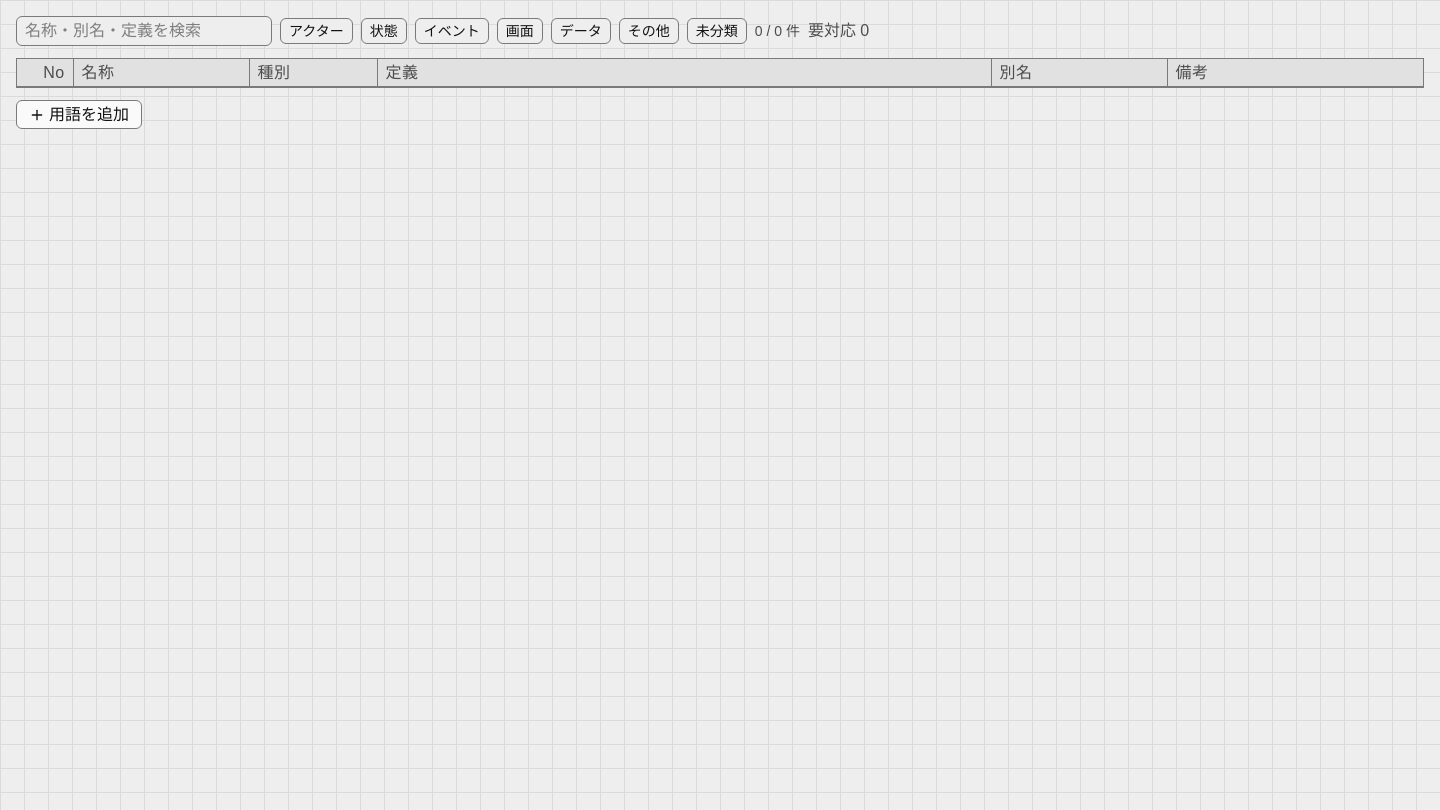
Scenario: GlossaryEditor: 行の操作言語 › 導出表示中は空の状態の「用語を追加」ボタンを出さない（行追加を止めるのと揃える）
Expected: the button "用語を追加" is shown, 16,100 -> 142,129
Click the button "その他" at (649, 31), box 619,18 -> 679,44
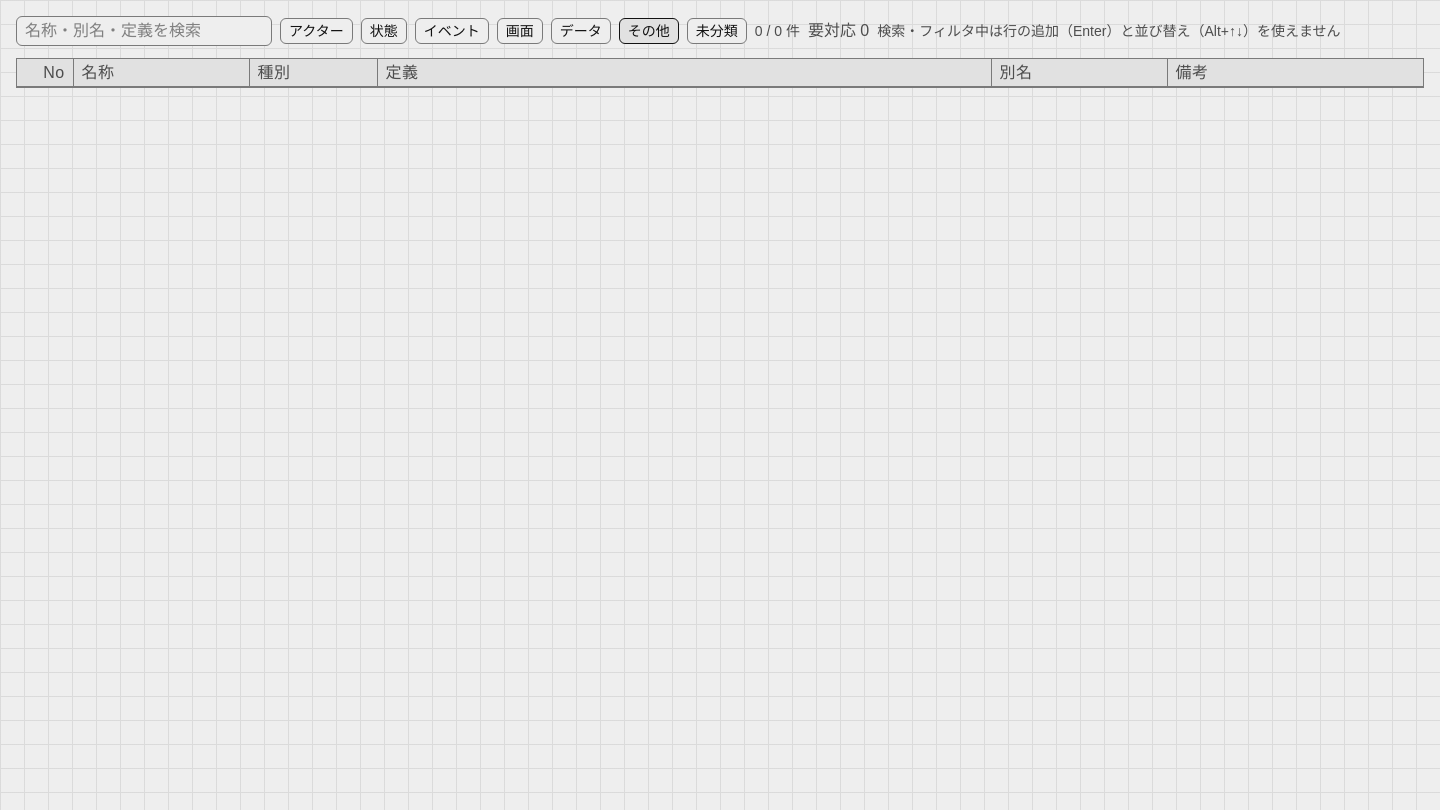
Result: the button "用語を追加" is gone
